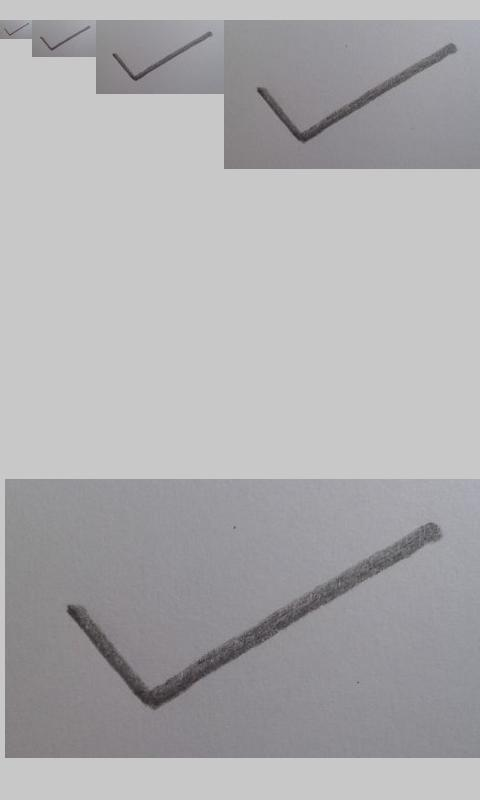check_box: (69, 522, 440, 709), (257, 43, 456, 143), (113, 31, 212, 81), (40, 26, 90, 51), (4, 23, 29, 36)
